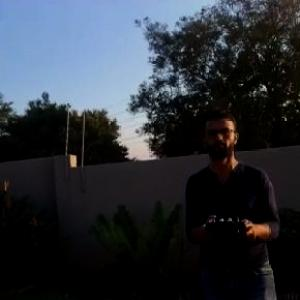follow: (181, 111, 286, 299)
